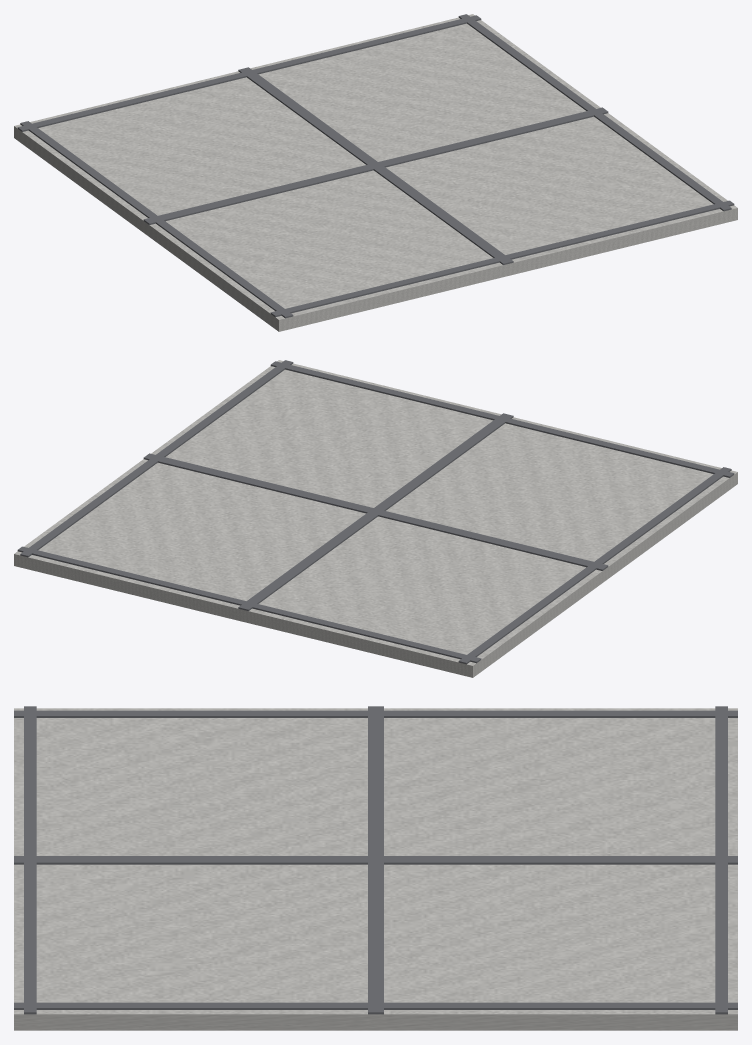
Rendered from street-food-market-and-food-trucks-market-floor-tile-5ac02aa3__34297.glb.
3 views of the same model, one above another, from view 1: azimuth 30°, elevation 25°; view 2: azimuth 150°, elevation 25°; view 3: azimuth 270°, elevation 25° (orthographic). The views are drawn at different scales.
Visible parts, largest first — view 1: market-floor-tile-concrete, market-floor-tile-charcoal; view 2: market-floor-tile-concrete, market-floor-tile-charcoal; view 3: market-floor-tile-concrete, market-floor-tile-charcoal.
Part boxes in pixels (x1,y1,x2,y2): market-floor-tile-concrete: (14,14,737,331); market-floor-tile-charcoal: (17,14,734,318); market-floor-tile-concrete: (14,360,737,677); market-floor-tile-charcoal: (17,360,734,664); market-floor-tile-concrete: (14,708,737,1030); market-floor-tile-charcoal: (14,706,737,1014).
Bounding box in the file's own units: 4 × 0.1122 × 4.
Materials: 2 (1 with a texture image).
